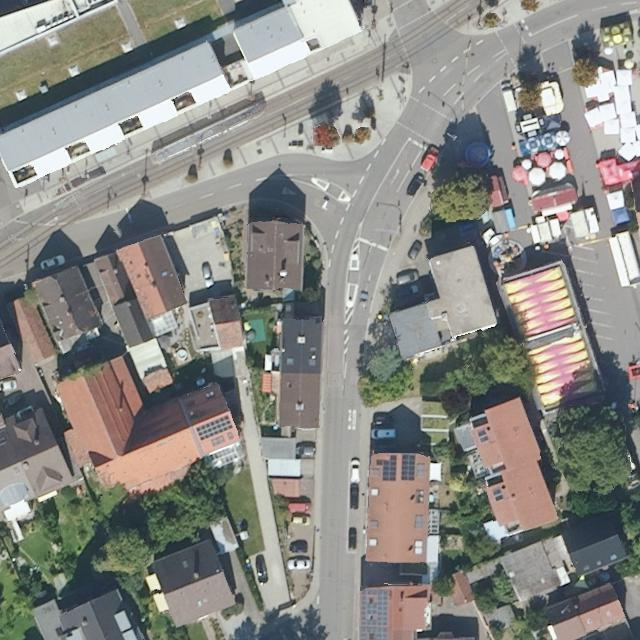PV: (358, 586, 393, 639), (375, 454, 417, 483), (195, 413, 234, 442)
